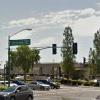Tree: (56, 21, 89, 90)
